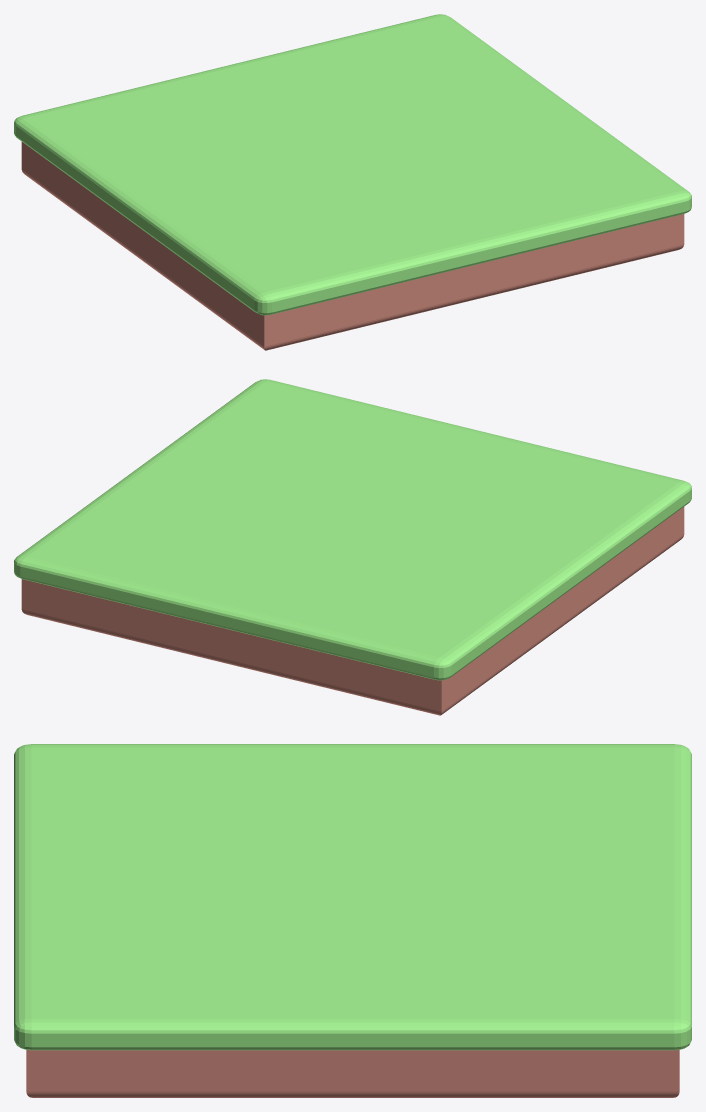
Rendered from terrain.fbx.
3 renders of one model, top to bottom at view 1: azimuth 30°, elevation 25°; view 2: azimuth 150°, elevation 25°; view 3: azimuth 270°, elevation 25°, orthographic. The views are drawn at different scales.
Parts seen in each view (by area): view 1: Cube.001, Cube; view 2: Cube.001, Cube; view 3: Cube.001, Cube.
Boxes of the visible parts, box(x1,y1,x2,y2) form: Cube.001: box(14, 14, 691, 315); Cube: box(21, 142, 684, 350); Cube.001: box(14, 379, 691, 680); Cube: box(21, 507, 684, 715); Cube.001: box(14, 744, 691, 1050); Cube: box(26, 1050, 679, 1097).
Size of the model in its own units: 2076 by 271 by 2076.
